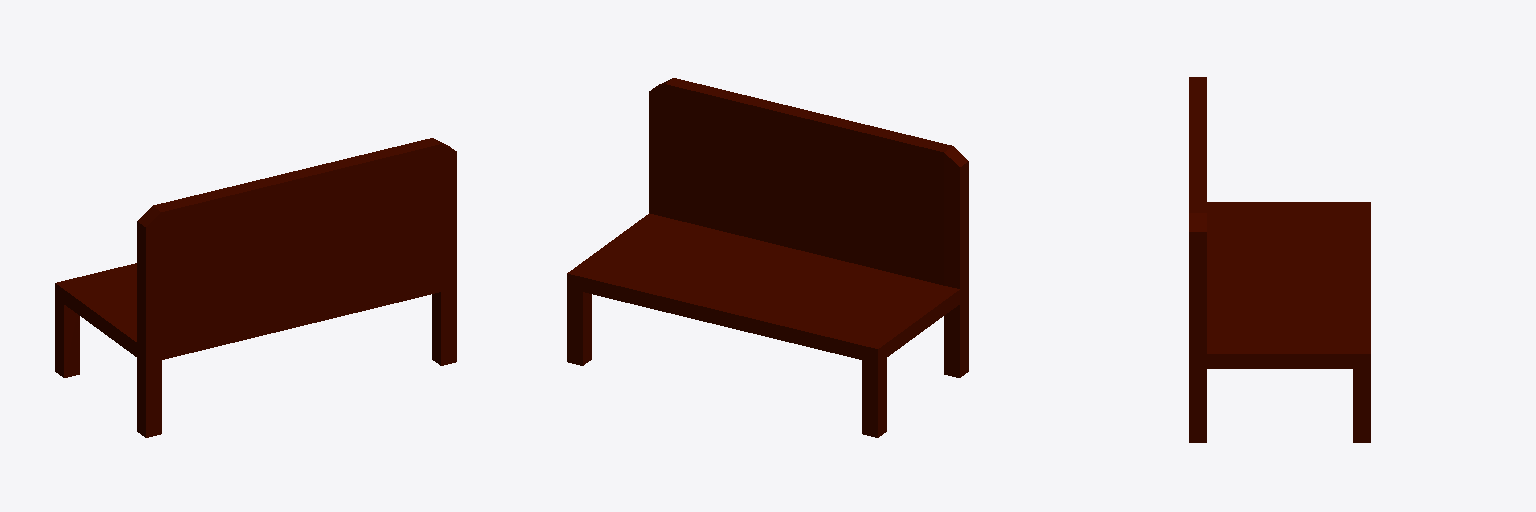
Rendered from bench.obj.
3 views of the same model, side by side, from view 1: azimuth 30°, elevation 25°; view 2: azimuth 150°, elevation 25°; view 3: azimuth 270°, elevation 25° (orthographic).
Visible parts, largest first — view 1: Bench_Cube; view 2: Bench_Cube; view 3: Bench_Cube.
Boxes of the visible parts, x1=… form: Bench_Cube: x1=55, y1=138, x2=456, y2=437; Bench_Cube: x1=567, y1=78, x2=968, y2=437; Bench_Cube: x1=1189, y1=77, x2=1370, y2=442.
Size of the model in its own units: 4.4 by 3 by 2.22.